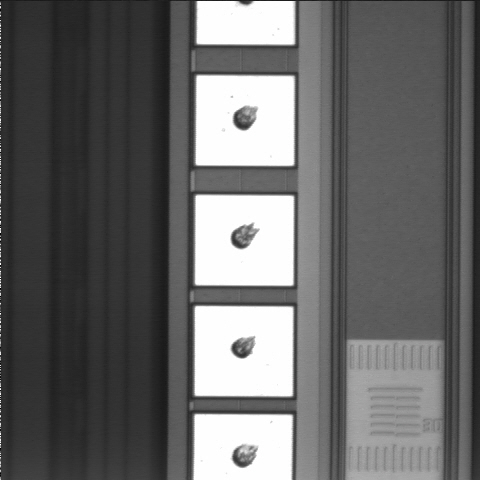pad: (195, 195, 294, 286), (196, 75, 294, 166), (195, 306, 293, 396)
